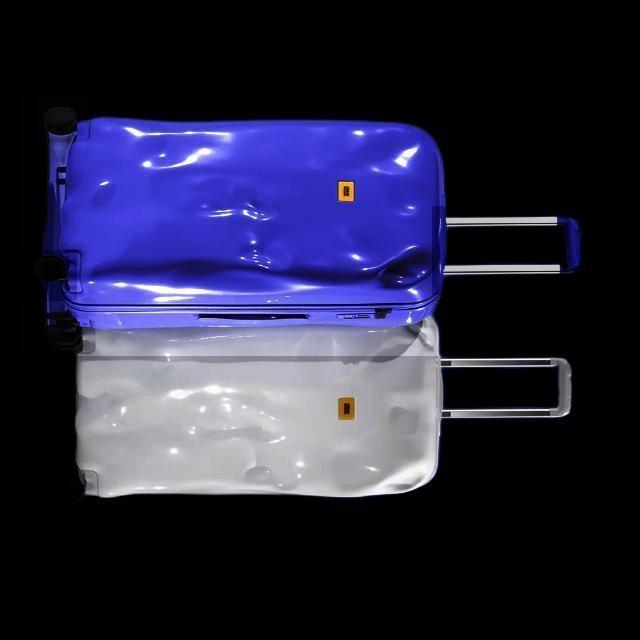Suitcase: (32, 105, 602, 328), (59, 330, 580, 502)
